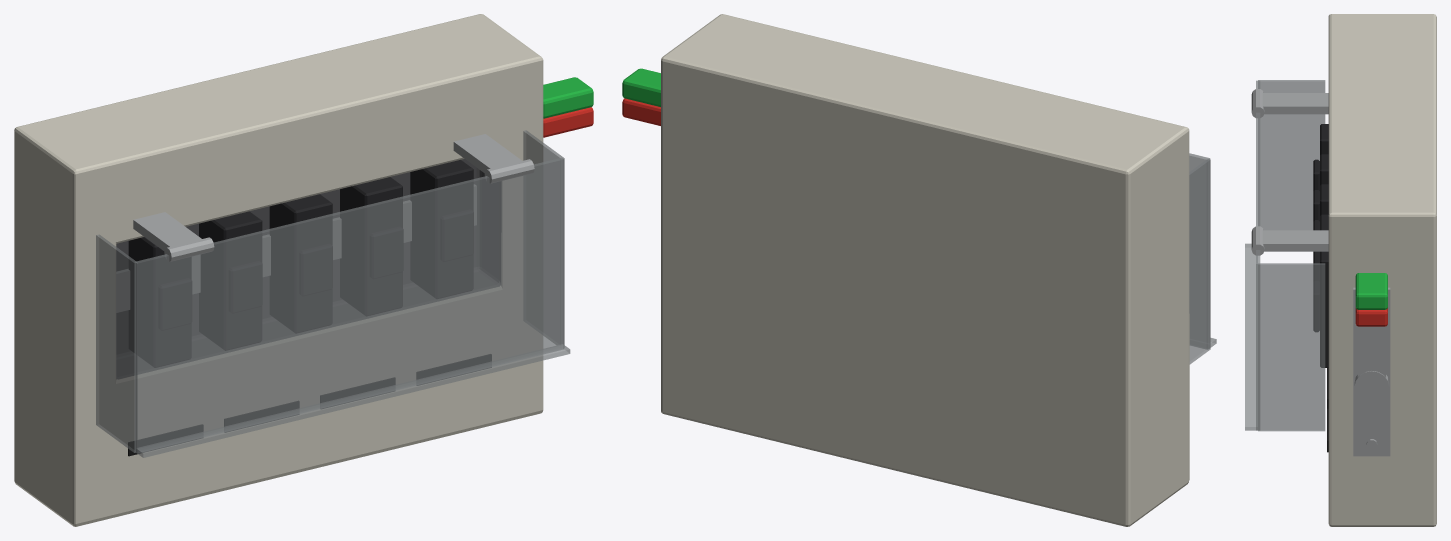
The model's file is breaker_panel.glb.
The picture shows the model from 3 angles, left to right: view 1: azimuth 30°, elevation 25°; view 2: azimuth 150°, elevation 25°; view 3: azimuth 270°, elevation 25°; orthographic projection. The views are drawn at different scales.
Parts seen in each view (by area): view 1: BreakerEnclosure, BreakerCover, BreakerModules, BreakerSteelParts, BreakerSlots, BreakerLeverGreen, BreakerLeverRed; view 2: BreakerEnclosure, BreakerCover, BreakerLeverGreen, BreakerLeverRed; view 3: BreakerEnclosure, BreakerCover, BreakerSteelParts, BreakerModules, BreakerLeverArm, BreakerLeverGreen, BreakerLeverRed.
Boxes of the visible parts, left/top/right/bottom form: BreakerEnclosure: left=14, top=14, right=543, bottom=526; BreakerCover: left=96, top=130, right=570, bottom=457; BreakerModules: left=128, top=159, right=473, bottom=367; BreakerSteelParts: left=116, top=134, right=534, bottom=312; BreakerSlots: left=128, top=354, right=491, bottom=456; BreakerLeverGreen: left=543, top=77, right=593, bottom=118; BreakerLeverRed: left=543, top=107, right=593, bottom=137; BreakerEnclosure: left=661, top=14, right=1189, bottom=526; BreakerCover: left=1189, top=153, right=1216, bottom=364; BreakerLeverGreen: left=622, top=68, right=660, bottom=106; BreakerLeverRed: left=622, top=98, right=660, bottom=125; BreakerEnclosure: left=1328, top=14, right=1436, bottom=526; BreakerCover: left=1245, top=80, right=1325, bottom=431; BreakerSteelParts: left=1251, top=89, right=1390, bottom=456; BreakerModules: left=1313, top=124, right=1328, bottom=367; BreakerLeverArm: left=1354, top=326, right=1389, bottom=402; BreakerLeverGreen: left=1355, top=273, right=1387, bottom=309; BreakerLeverRed: left=1355, top=307, right=1387, bottom=326.
Bounding box in the file's own units: 0.502 × 0.32 × 0.177.
